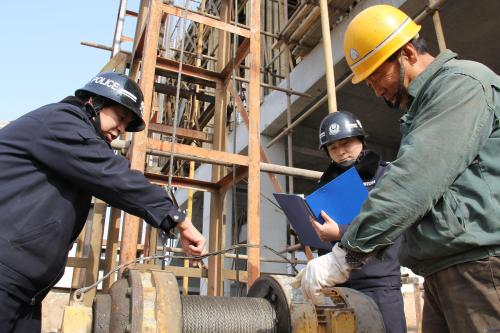gloves: (290, 242, 353, 303)
hard-hat: (343, 4, 422, 85), (75, 71, 146, 131), (318, 111, 368, 150)
person: (291, 3, 500, 333), (1, 71, 207, 333), (291, 109, 407, 333)
